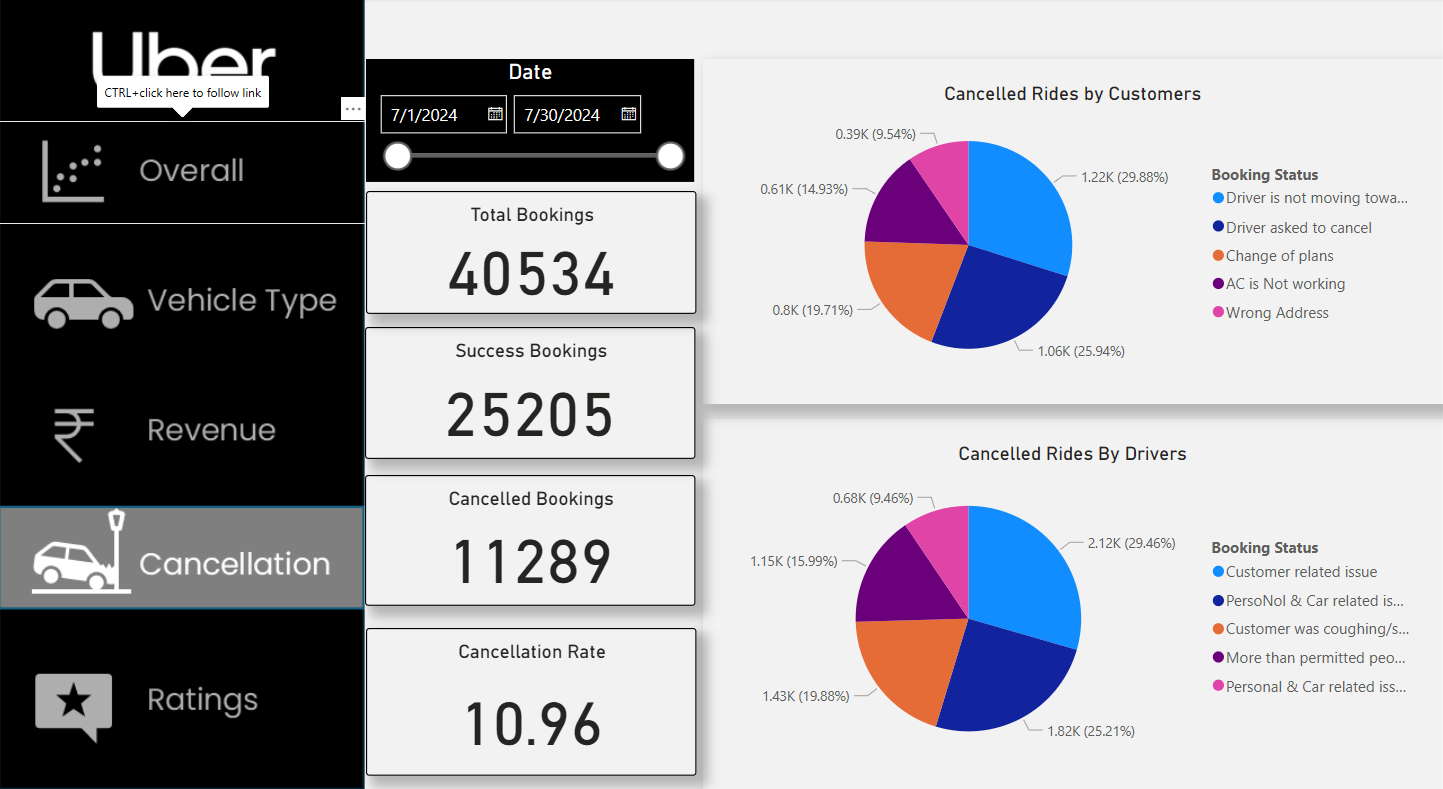

What the dashboard file says about the page in this screenshot:
{"tool":"powerbi","page":{"name":"Cancellation","canvas":[1280,720],"ordinal":3},"visuals":[{"type":"actionButton","box":[7.1,223.4,318.3,85.1],"z":0},{"type":"actionButton","box":[0,342.3,325.4,91.3],"z":1000},{"type":"actionButton","box":[0,580.8,325.4,86.9],"z":2000},{"type":"actionButton","box":[0,109.1,325.4,91.3],"z":3000},{"type":"pieChart","title":"Cancelled Rides By Drivers","fields":{"Category":["July.Canceled_Rides_by_Driver"],"Y":["CountNonNull(July.Canceled_Rides_by_Driver)"]},"box":[624.3,372.9,655.7,330],"z":4000},{"type":"pieChart","title":"Cancelled Rides by Customers","fields":{"Category":["July.Canceled_Rides_by_Customer"],"Y":["CountNonNull(July.Canceled_Rides_by_Customer)"]},"box":[624.3,54.3,655.7,305.7],"z":5000},{"type":"slicer","title":"Date","fields":{"Values":["July.Date"]},"box":[325.7,54.3,291.4,108.6],"z":6000},{"type":"card","title":"Total Bookings","fields":{"Values":["CountNonNull(July.Booking_ID)"]},"box":[325.7,171.4,292.9,108.6],"z":7000},{"type":"card","title":"Success Bookings","fields":{"Values":["CountNonNull(July.Booking_ID)"]},"box":[324.3,291.4,292.9,117.1],"z":8000},{"type":"card","title":"Cancelled Bookings","fields":{"Values":["CountNonNull(July.Booking_ID)"]},"box":[324.3,422.9,292.9,115.7],"z":9000},{"type":"card","title":"Cancellation Rate","fields":{"Values":["July.CanceledPercentage"]},"box":[325.7,558.6,292.9,131.4],"z":10000}]}

Visuals, with their boxes on the page's 1280x720 design canvas (x1, y1, x2, y2). These are canvas units, not pixel positions in the 1443x789 screenshot, which may show the page scaled, cropped or inside an application window:
actionButton: x1=7, y1=223, x2=325, y2=308
actionButton: x1=0, y1=342, x2=325, y2=434
actionButton: x1=0, y1=581, x2=325, y2=668
actionButton: x1=0, y1=109, x2=325, y2=200
"Cancelled Rides By Drivers" pieChart: x1=624, y1=373, x2=1280, y2=703
"Cancelled Rides by Customers" pieChart: x1=624, y1=54, x2=1280, y2=360
"Date" slicer: x1=326, y1=54, x2=617, y2=163
"Total Bookings" card: x1=326, y1=171, x2=619, y2=280
"Success Bookings" card: x1=324, y1=291, x2=617, y2=408
"Cancelled Bookings" card: x1=324, y1=423, x2=617, y2=539
"Cancellation Rate" card: x1=326, y1=559, x2=619, y2=690
